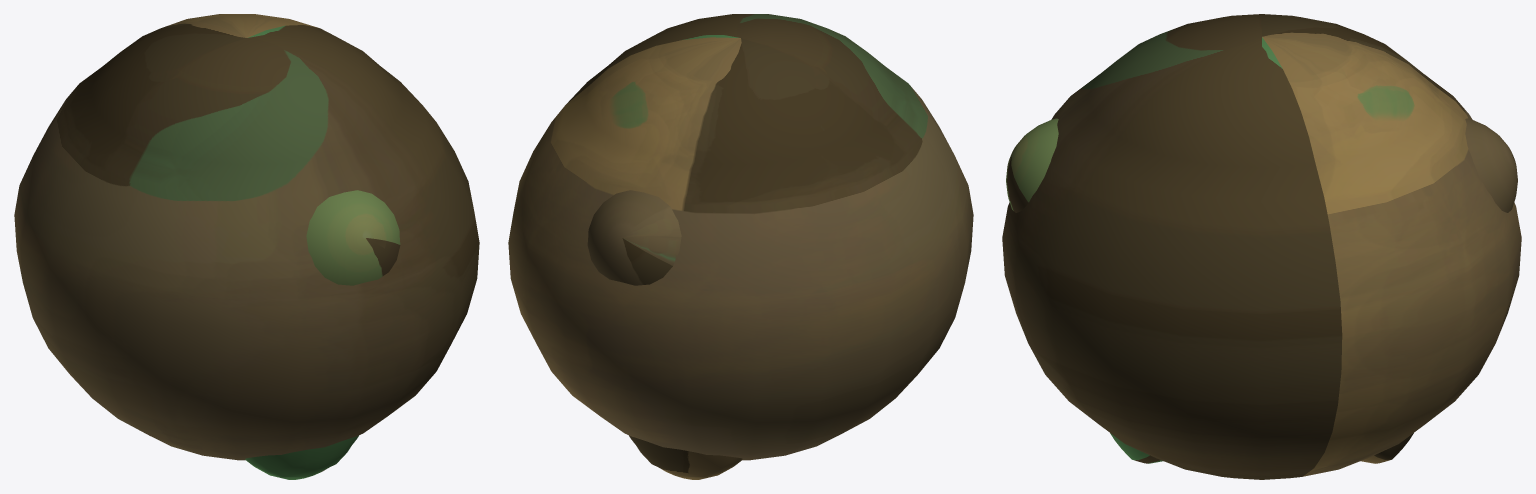
The model's file is IFFYBALL.fbx.
3 renders of one model, left to right at view 1: azimuth 30°, elevation 25°; view 2: azimuth 150°, elevation 25°; view 3: azimuth 270°, elevation 25°, orthographic. The views are drawn at different scales.
Visible parts, largest first — view 1: Body; view 2: Body; view 3: Body.
Part boxes in pixels (box(x1,y1,x2,y2)): Body: box(14, 14, 479, 479); Body: box(508, 14, 973, 479); Body: box(1002, 14, 1521, 479).
Size of the model in its own units: 2.15 by 2.08 by 2.32.
